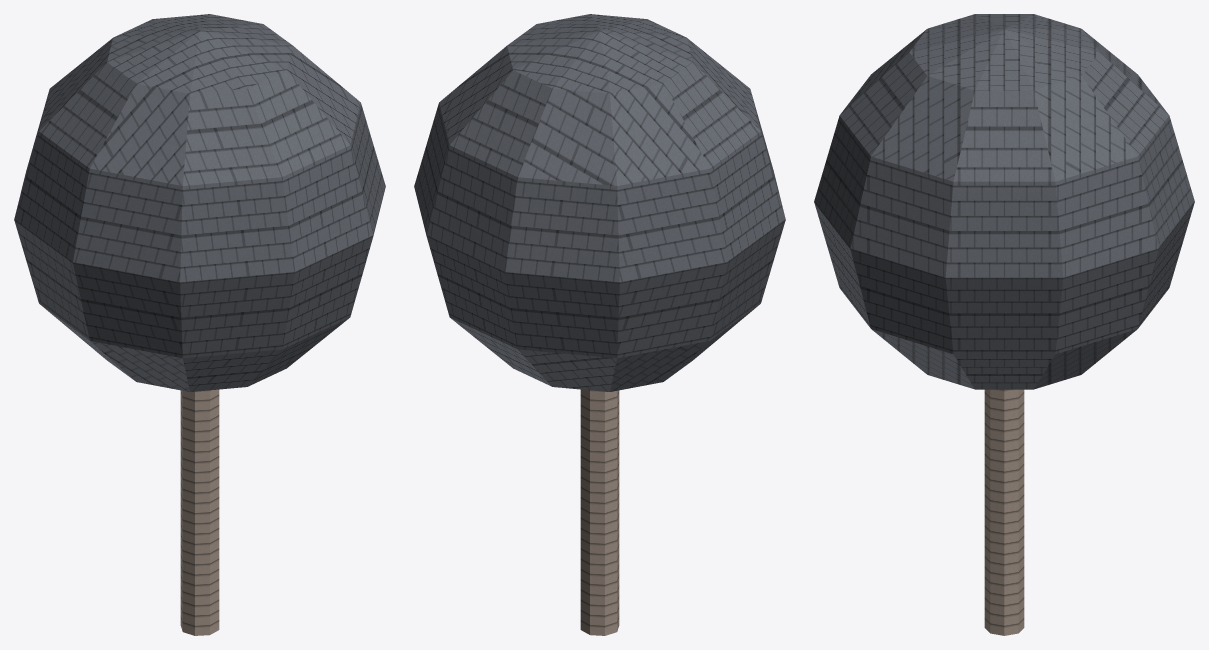
File: tree_sugar_norway_maple.glb
3 views of the same model, side by side, from view 1: azimuth 30°, elevation 25°; view 2: azimuth 150°, elevation 25°; view 3: azimuth 270°, elevation 25° (orthographic).
Visible parts, largest first — view 1: tree_sugar_norway_maple-col; view 2: tree_sugar_norway_maple-col; view 3: tree_sugar_norway_maple-col.
Part boxes in pixels (x1,y1,x2,y2): tree_sugar_norway_maple-col: (14, 14, 385, 635); tree_sugar_norway_maple-col: (414, 14, 785, 635); tree_sugar_norway_maple-col: (814, 14, 1194, 635).
Size of the model in its own units: 3.99 by 7.28 by 4.2.
2 materials, 2 textured.
